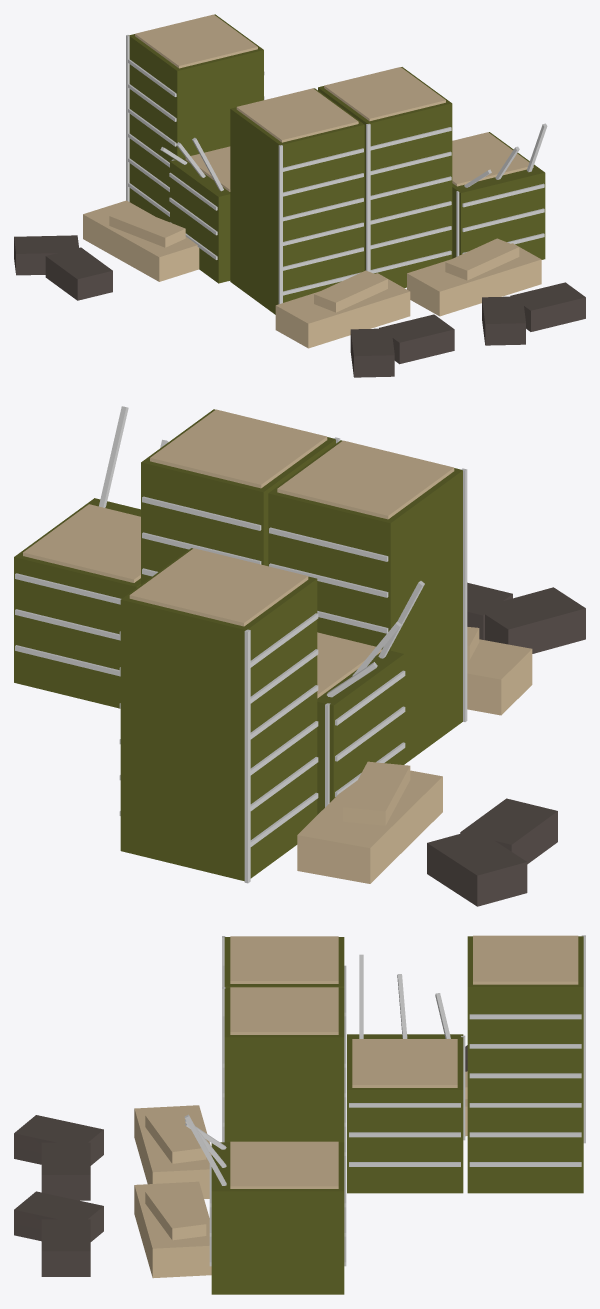
The model's file is SM_HescoEsquina_v1_Geotextil_e1_Danado_LOD0.fbx.
3 views of the same model, one above another, from view 1: azimuth 30°, elevation 25°; view 2: azimuth 150°, elevation 25°; view 3: azimuth 270°, elevation 25° (orthographic). The views are drawn at different scales.
Visible parts, largest first — view 1: SM_hesco_piezas_v5_LOD0; view 2: SM_hesco_piezas_v5_LOD0; view 3: SM_hesco_piezas_v5_LOD0.
Boxes of the visible parts, bbox=[...] form: SM_hesco_piezas_v5_LOD0: bbox=[14, 14, 585, 377]; SM_hesco_piezas_v5_LOD0: bbox=[14, 406, 585, 906]; SM_hesco_piezas_v5_LOD0: bbox=[14, 935, 585, 1294].
Size of the model in its own units: 5.25 by 2.13 by 5.27.
